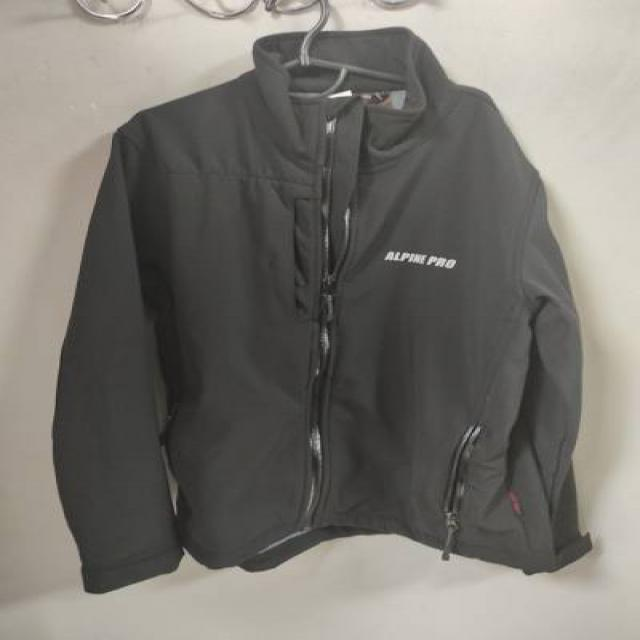Clothes -Biodegradable-: (51, 30, 595, 590)
